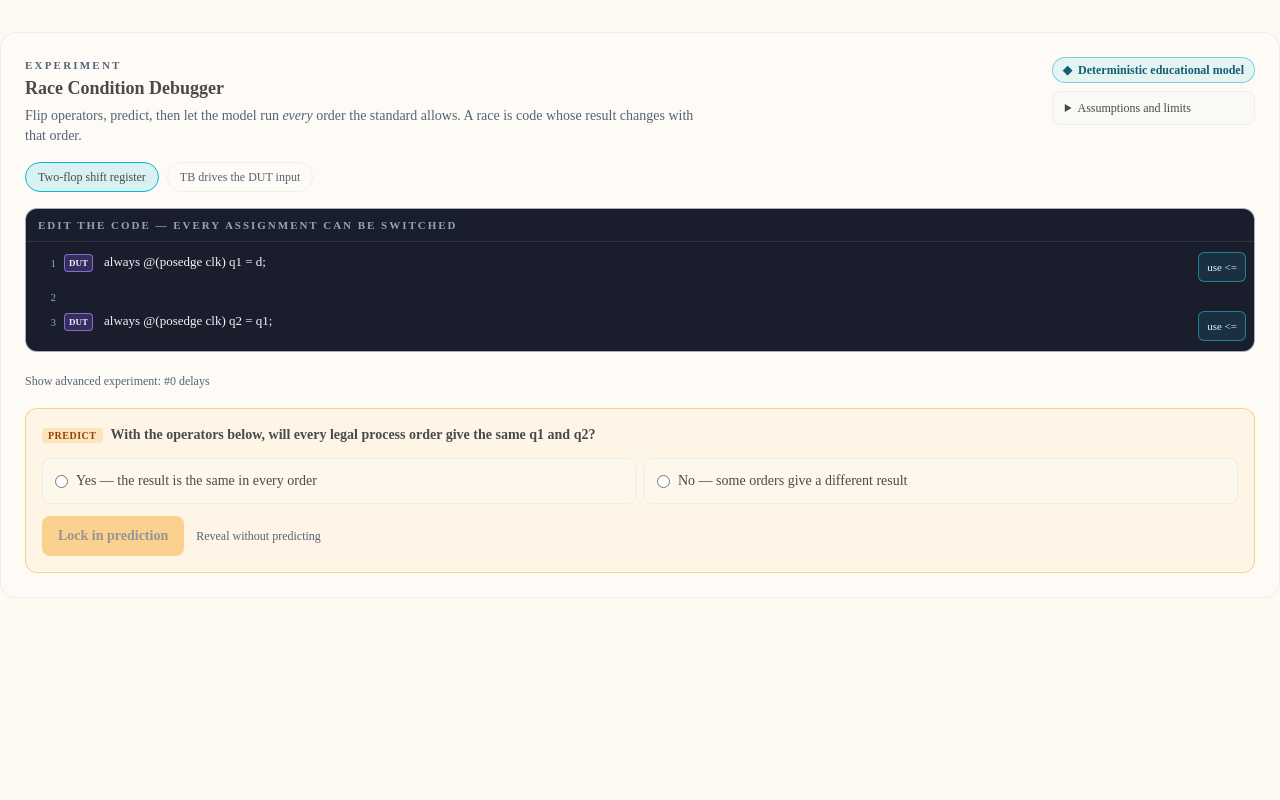
Test case: RaceConditionDebugger › re-asks for a prediction after the code changes and reports determinism with <=
Step 1. Click the button with aria-label "Change always @(posedge clk) q1 = d; to a nonblocking" → click(1222, 267), box [1198,252,1246,282]
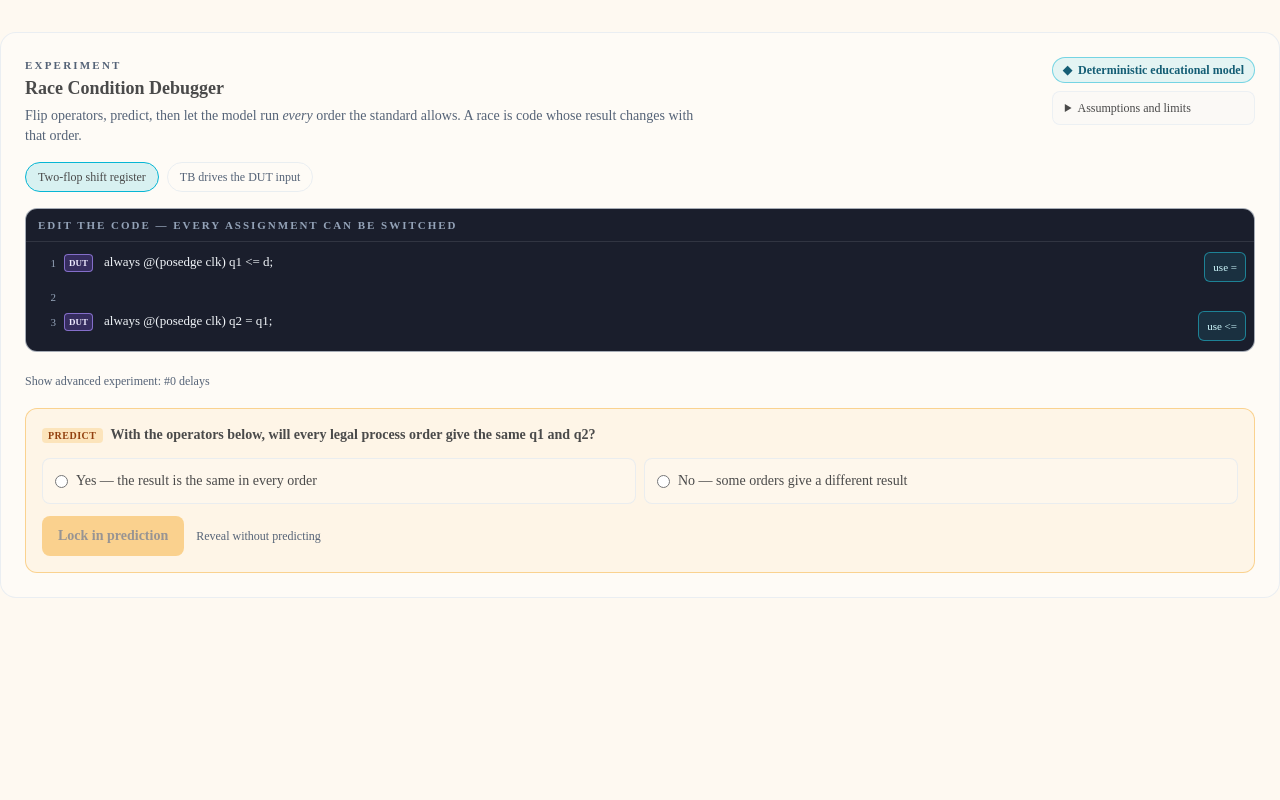
Step 2. Click the button with aria-label "Change always @(posedge clk) q2 = q1; to a nonblocking" → click(1222, 326), box [1198,311,1246,341]
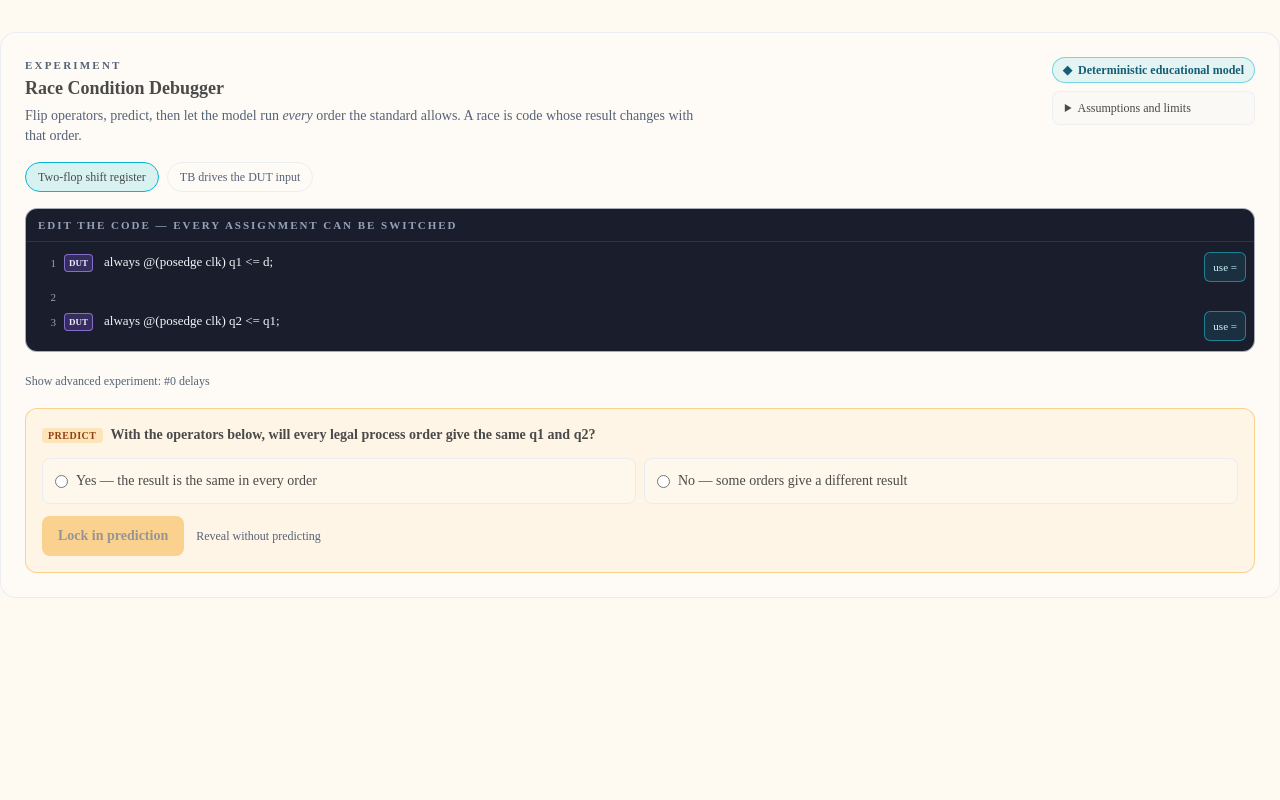
Expected: the button "Lock in prediction" is disabled, [42,516,184,556]
Step 3. Click the radio button labelled "Yes — the result is the same in every order" → click(62, 482), box [55,475,68,488]
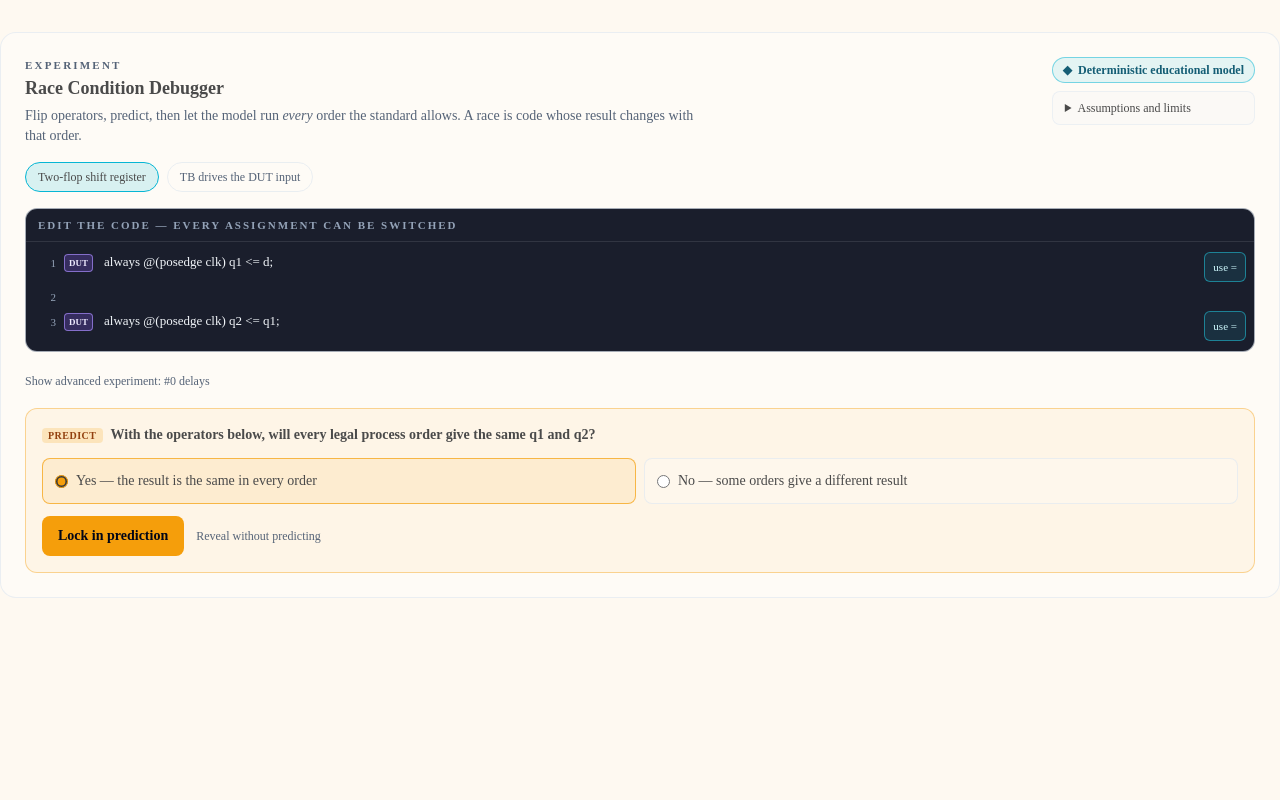
Step 4. Click the button "Lock in prediction" → click(113, 536), box [42,516,184,556]
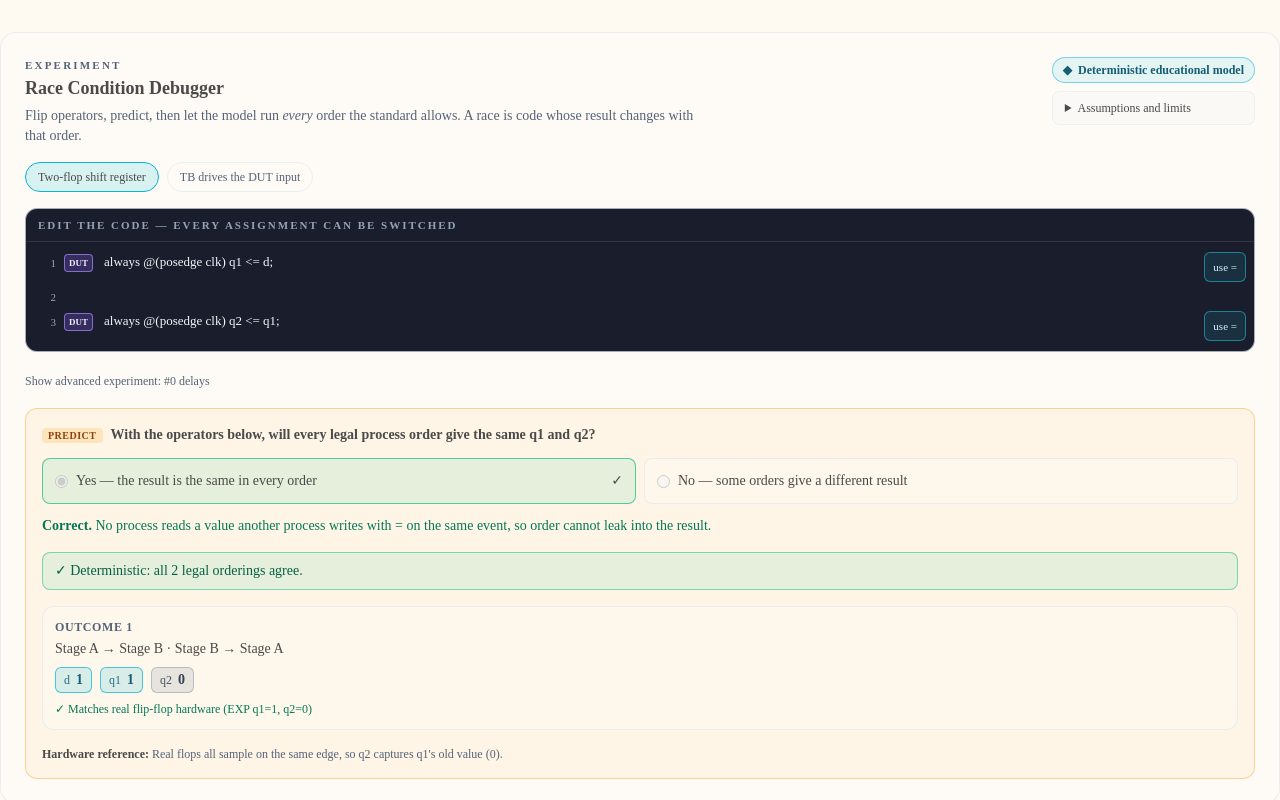
Expected: the text "Correct." is shown, [42,518,95,533]
Expected: the text "✓ Deterministic: all 2 legal orderings agree." is shown, [42,552,1238,590]
Expected: the text "✓ Matches real flip-flop hardware (EXP q1=1, q2=0)" is shown, [55,702,312,716]
